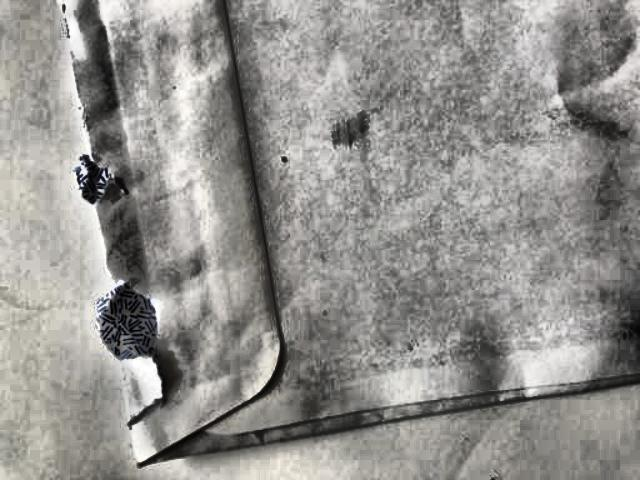Paper: (56, 0, 640, 472)
